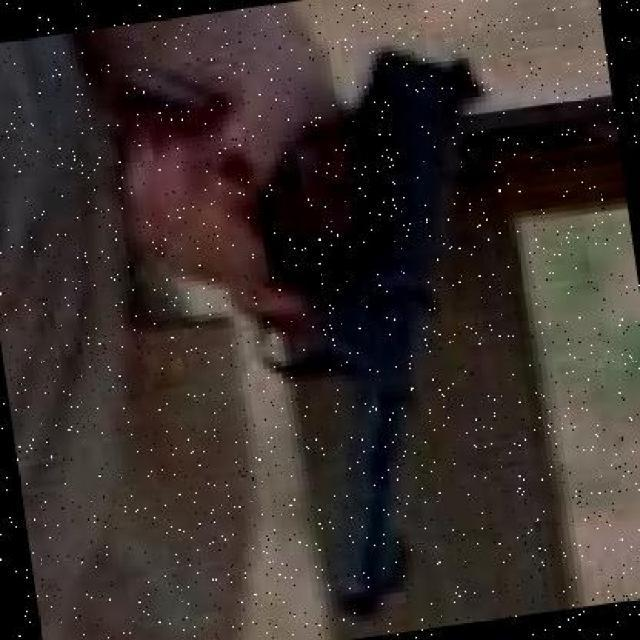rifle: (246, 33, 488, 406)
